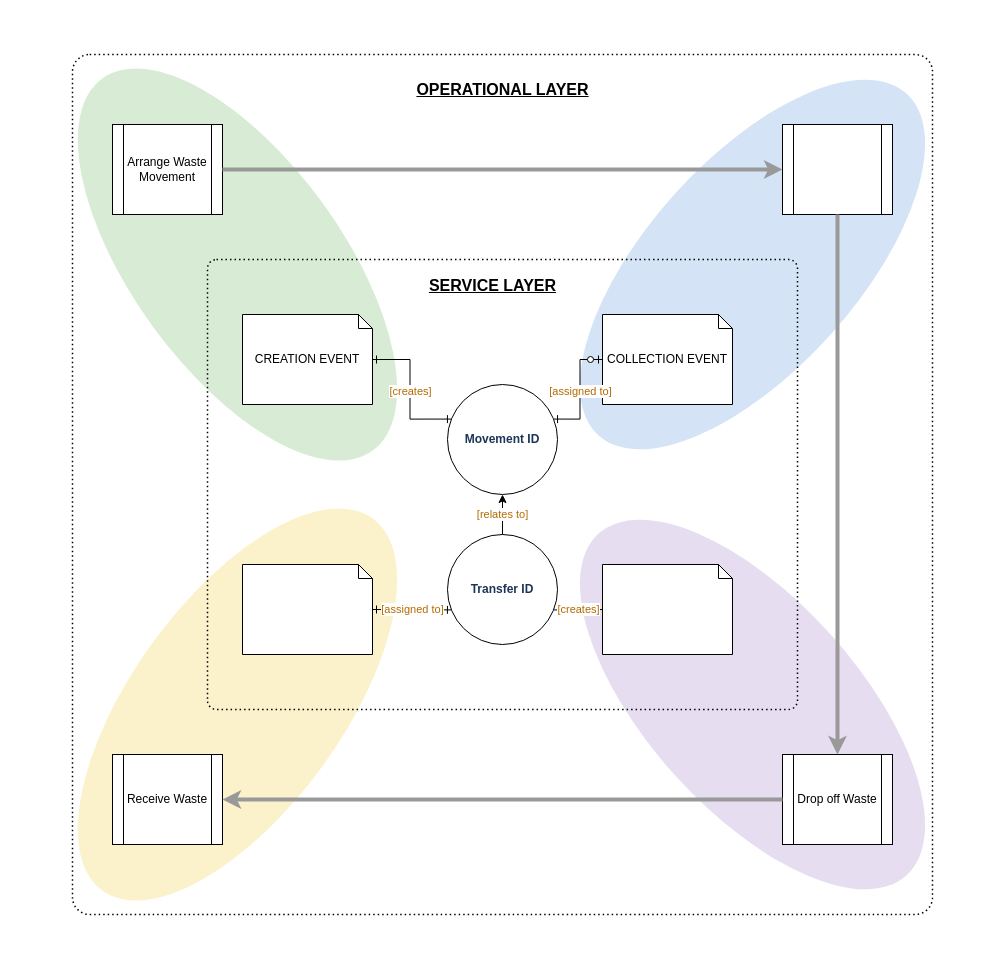
Image size: 1002x970. Some labels were removed from this diagram. The shapes that lost their labels are listed below. From the top down, each one's centre as x and y in pixels, then its label:
At (837,169): "Collect Waste".
At (307,609): "RECEIPT EVENT".
At (667,609): "DROP OFF EVENT".
